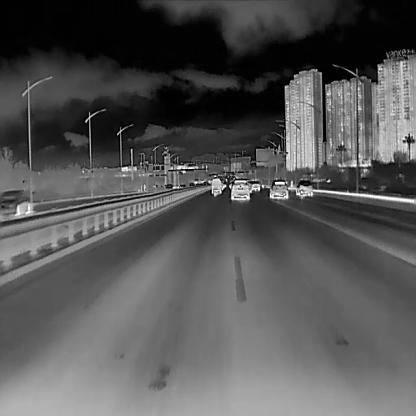car: (0, 190, 30, 215), (230, 179, 251, 202), (268, 179, 288, 199), (295, 179, 312, 197), (210, 177, 220, 194), (249, 180, 259, 192)
